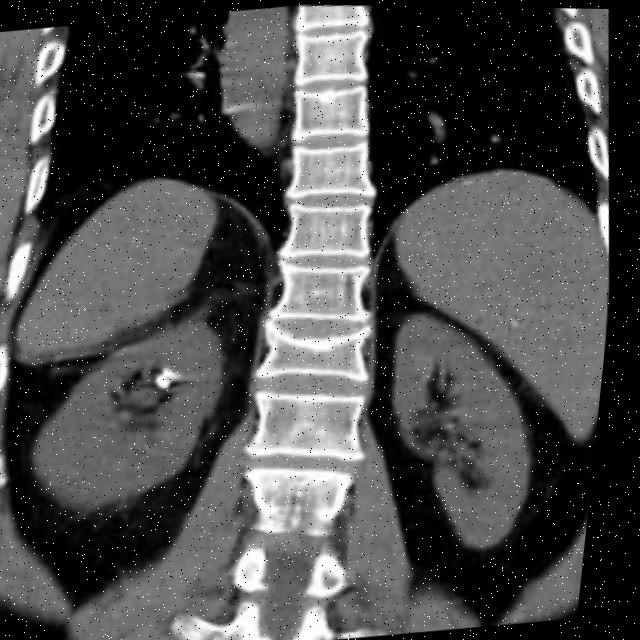Tas_Var: (160, 372, 183, 390), (169, 365, 186, 378)
